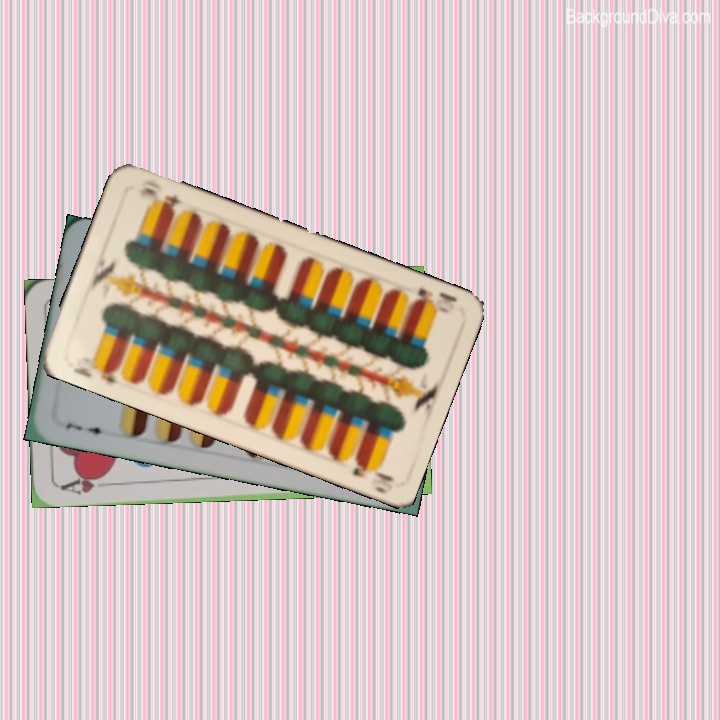E10: (409, 283, 459, 316), (95, 359, 121, 387)
E7: (62, 419, 111, 439)
HA: (56, 470, 115, 497)
